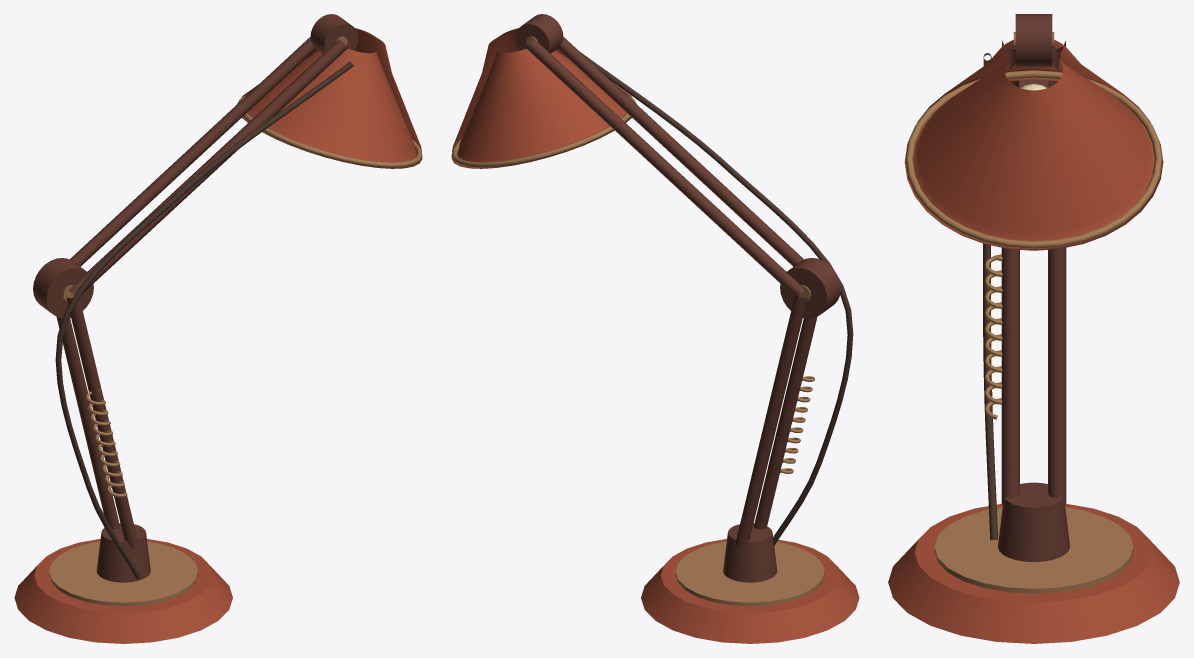
File: lamp.glb
3 views of the same model, side by side, from view 1: azimuth 30°, elevation 25°; view 2: azimuth 150°, elevation 25°; view 3: azimuth 270°, elevation 25° (orthographic). The views are drawn at different scales.
Parts seen in each view (by area): view 1: spun-metal-shade, weighted-base, base-inset, upper-parallel-arm--0.035, power-cable, upper-parallel-arm-0.035, lower-parallel-arm-0.035, lower-parallel-arm--0.035, swivel, elbow, head-hinge, shade-rim (+1 smaller); view 2: spun-metal-shade, weighted-base, base-inset, upper-parallel-arm--0.035, upper-parallel-arm-0.035, power-cable, lower-parallel-arm--0.035, lower-parallel-arm-0.035, swivel, elbow, head-hinge, shade-rim (+1 smaller); view 3: spun-metal-shade, weighted-base, base-inset, lower-parallel-arm--0.035, lower-parallel-arm-0.035, shade-rim, swivel, head-hinge, power-cable, tension-spring.
Part boxes in pixels (bbox=[...]): spun-metal-shade: bbox=[241, 28, 422, 168]; weighted-base: bbox=[14, 539, 232, 643]; base-inset: bbox=[49, 541, 198, 606]; upper-parallel-arm--0.035: bbox=[70, 37, 315, 266]; power-cable: bbox=[55, 61, 353, 579]; upper-parallel-arm-0.035: bbox=[69, 39, 347, 295]; lower-parallel-arm-0.035: bbox=[66, 297, 138, 548]; lower-parallel-arm--0.035: bbox=[56, 316, 120, 529]; swivel: bbox=[96, 523, 150, 582]; elbow: bbox=[33, 258, 93, 318]; head-hinge: bbox=[310, 14, 358, 53]; shade-rim: bbox=[237, 94, 422, 167]; spun-metal-shade: bbox=[451, 28, 632, 168]; weighted-base: bbox=[641, 539, 859, 643]; base-inset: bbox=[675, 541, 824, 606]; upper-parallel-arm--0.035: bbox=[526, 39, 804, 296]; upper-parallel-arm-0.035: bbox=[558, 37, 803, 266]; power-cable: bbox=[580, 52, 853, 545]; lower-parallel-arm--0.035: bbox=[735, 296, 807, 548]; lower-parallel-arm-0.035: bbox=[753, 316, 817, 529]; swivel: bbox=[723, 523, 777, 582]; elbow: bbox=[780, 258, 840, 318]; head-hinge: bbox=[515, 14, 563, 53]; shade-rim: bbox=[451, 94, 636, 167]; spun-metal-shade: bbox=[904, 40, 1163, 250]; weighted-base: bbox=[888, 504, 1179, 643]; base-inset: bbox=[934, 507, 1133, 593]; lower-parallel-arm--0.035: bbox=[1048, 247, 1066, 504]; lower-parallel-arm-0.035: bbox=[1001, 247, 1019, 504]; shade-rim: bbox=[905, 70, 1162, 248]; swivel: bbox=[998, 482, 1069, 561]; head-hinge: bbox=[1015, 14, 1052, 66]; power-cable: bbox=[983, 53, 997, 540]; tension-spring: bbox=[984, 254, 1002, 419].
Bounding box in the file's own units: 0.8833 × 1.17 × 0.44.
